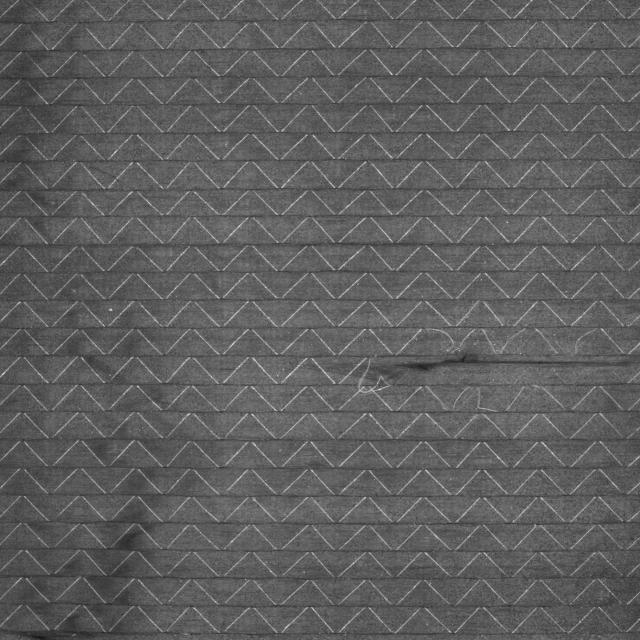carbon-fibre-defect: (329, 354, 626, 386)
